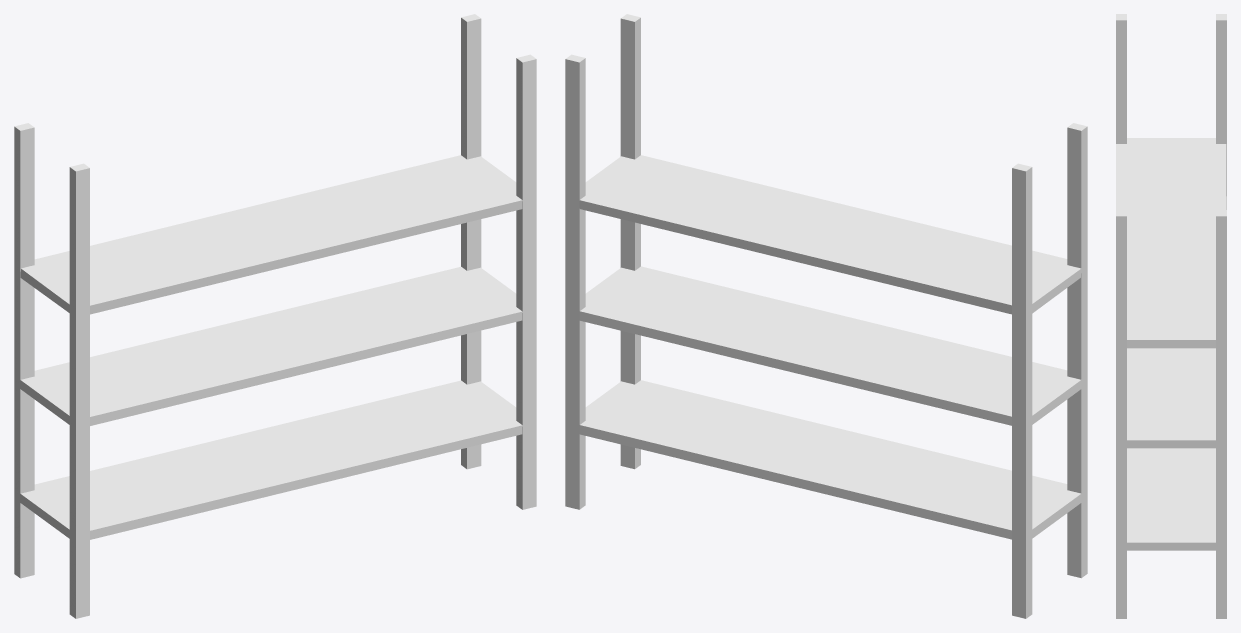
Rendered from Shelve.fbx.
3 renders of one model, left to right at view 1: azimuth 30°, elevation 25°; view 2: azimuth 150°, elevation 25°; view 3: azimuth 270°, elevation 25°, orthographic. The views are drawn at different scales.
Visible parts, largest first — view 1: Standing shelve; view 2: Standing shelve; view 3: Standing shelve.
Part boxes in pixels (box(x1,y1,x2,y2)): Standing shelve: box(14, 14, 536, 618); Standing shelve: box(565, 14, 1087, 618); Standing shelve: box(1116, 14, 1226, 618).
Size of the model in its own units: 309 by 286 by 71.42.
